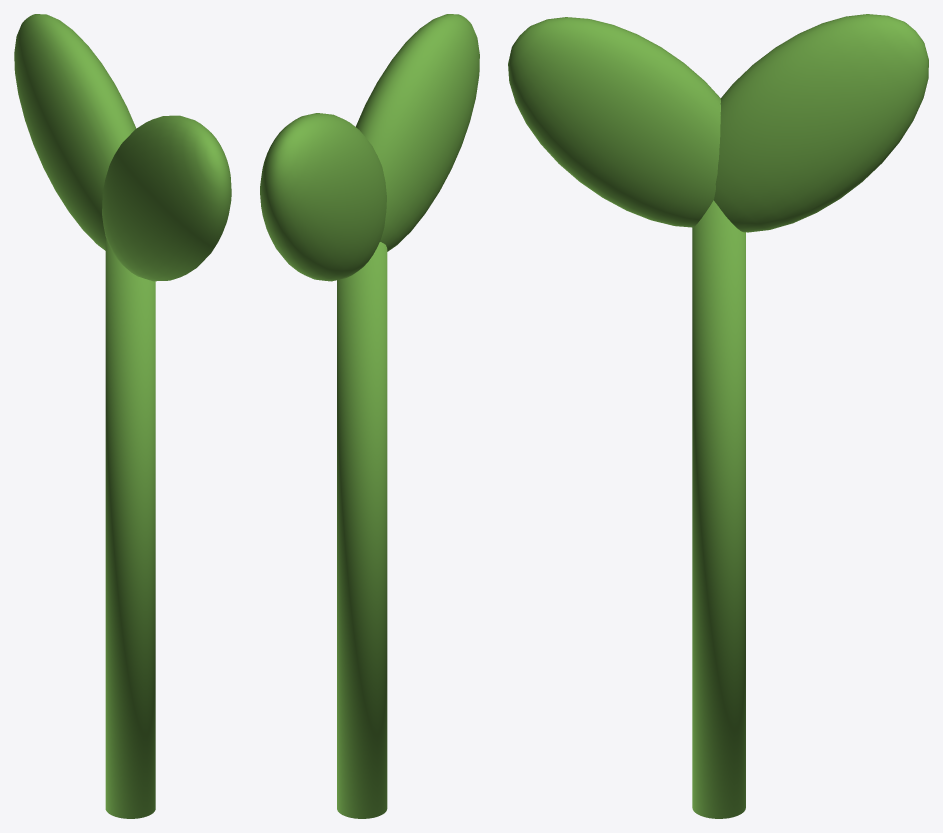
File: Plant_9.fbx
3 views of the same model, side by side, from view 1: azimuth 30°, elevation 25°; view 2: azimuth 150°, elevation 25°; view 3: azimuth 270°, elevation 25° (orthographic). The views are drawn at different scales.
Parts seen in each view (by area): view 1: PLant_9; view 2: PLant_9; view 3: PLant_9.
Part boxes in pixels (bbox=[...]): PLant_9: bbox=[14, 14, 231, 818]; PLant_9: bbox=[260, 14, 479, 818]; PLant_9: bbox=[508, 14, 928, 818].
Bounding box in the file's own units: 5.77 × 55.37 × 26.84.
